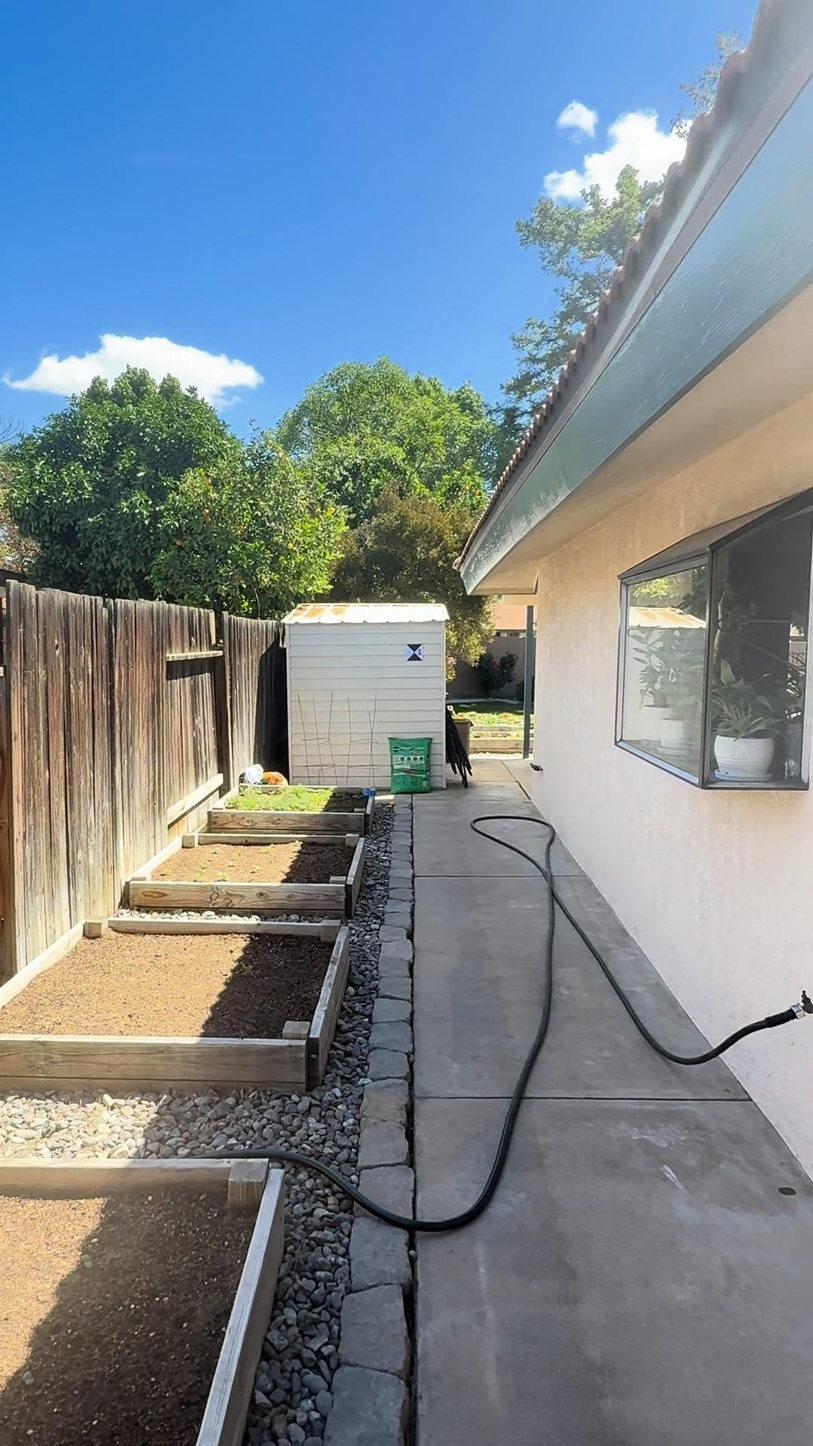target1: (406, 642, 425, 662)
